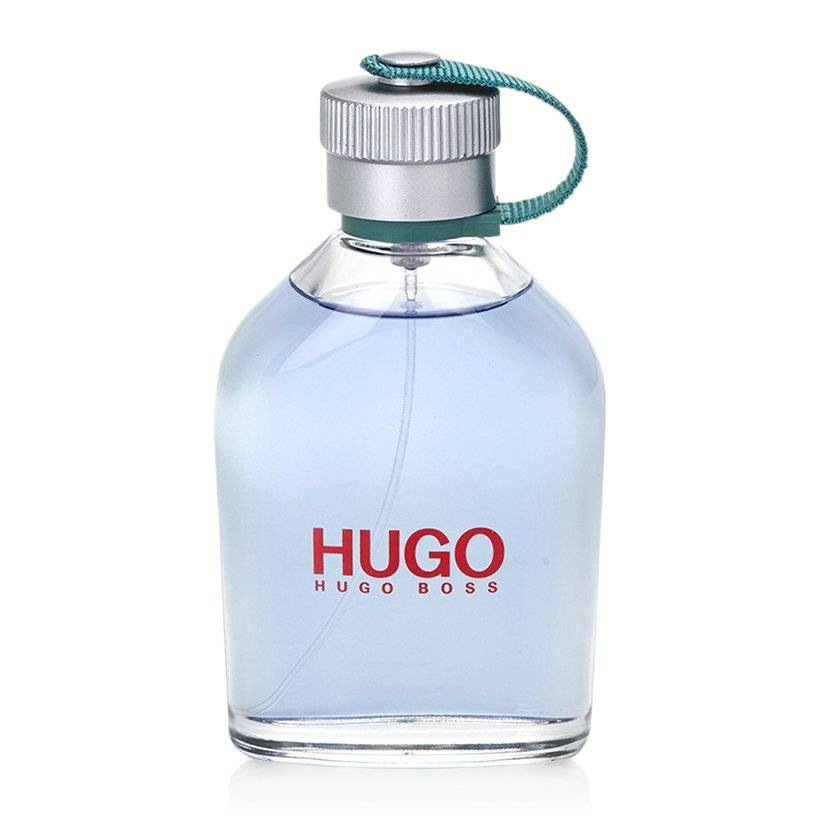Hugo Boss: (308, 578, 506, 599)
